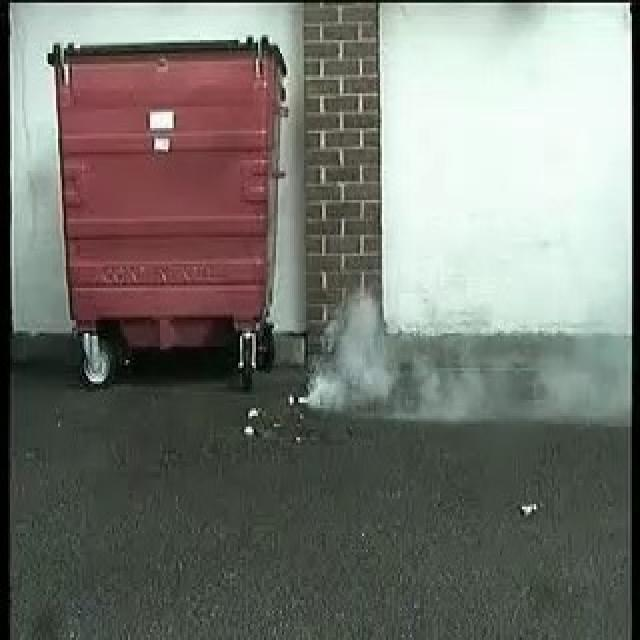smoke: (294, 299, 482, 416)
